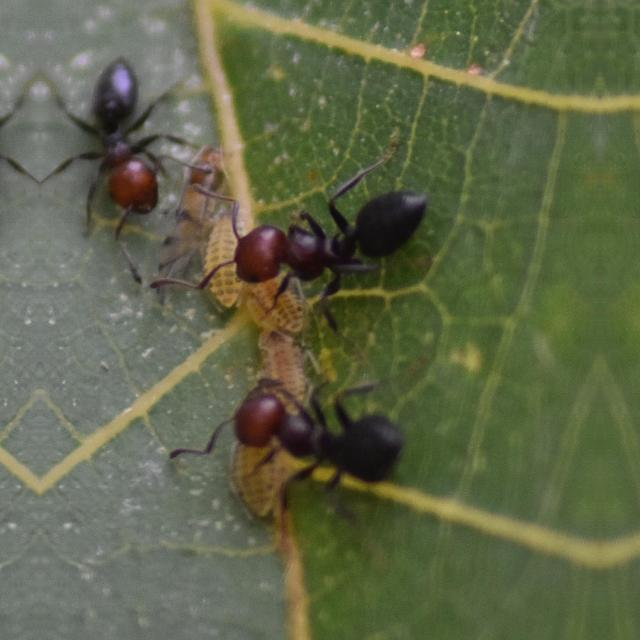Crematogaster: (213, 166, 441, 322), (213, 368, 405, 532), (62, 48, 168, 226)
